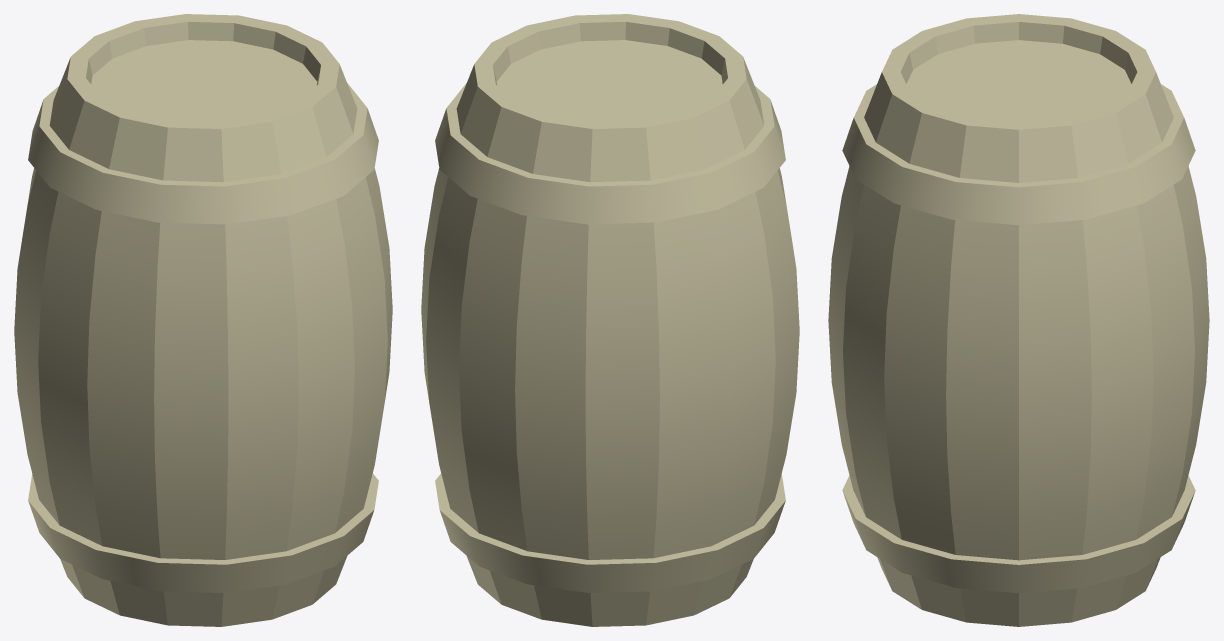
The model's file is Barrel.FBX.
3 views of the same model, side by side, from view 1: azimuth 30°, elevation 25°; view 2: azimuth 150°, elevation 25°; view 3: azimuth 270°, elevation 25° (orthographic).
Visible parts, largest first — view 1: Barrel; view 2: Barrel; view 3: Barrel.
Boxes of the visible parts, left/top/right/bottom form: Barrel: left=14, top=14, right=392, bottom=626; Barrel: left=421, top=14, right=799, bottom=626; Barrel: left=828, top=14, right=1209, bottom=626.
Bounding box in the file's own units: 83.4 × 83.4 × 120.
